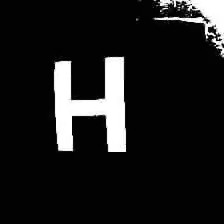LTR_H: (45, 47, 134, 157)
